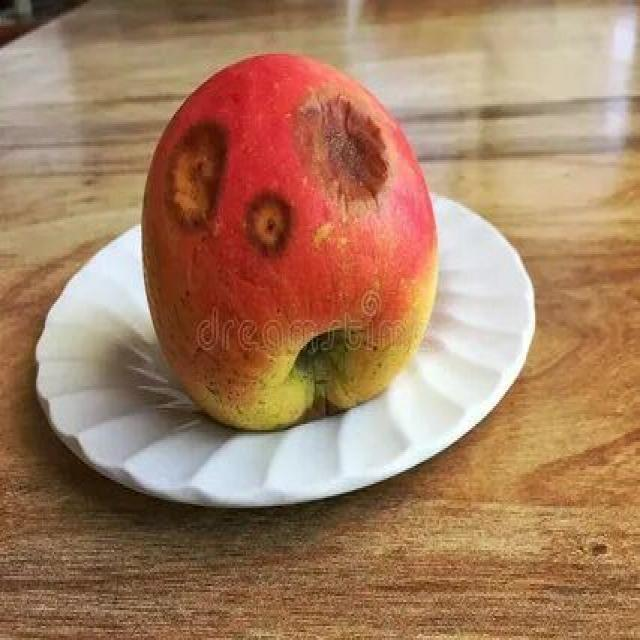Rotten: (154, 53, 424, 440)
